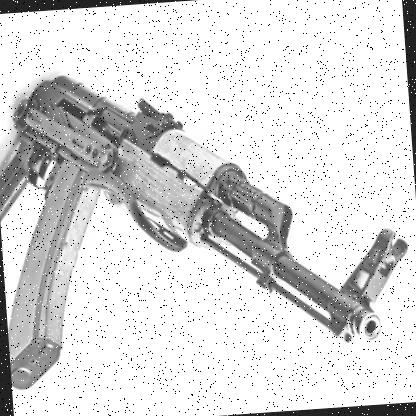rifle: (0, 38, 390, 414)
